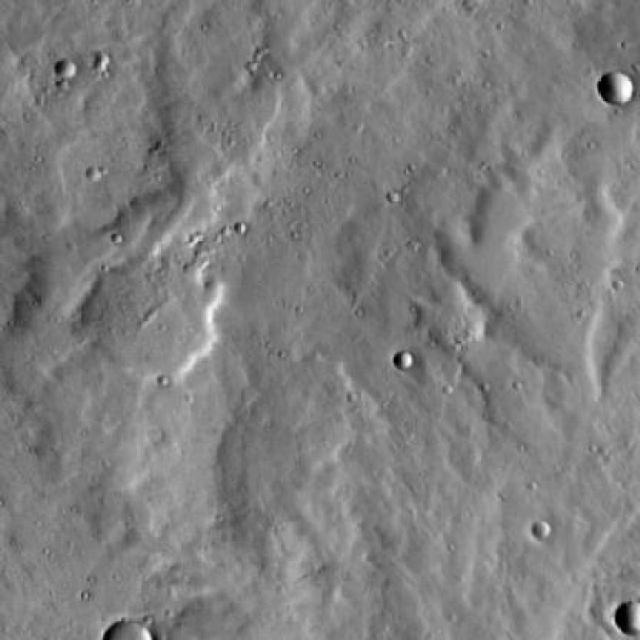crater: (85, 251, 218, 380), (102, 618, 162, 640), (600, 70, 628, 104), (618, 603, 640, 635), (536, 522, 555, 540), (57, 60, 75, 77), (396, 352, 413, 370)
